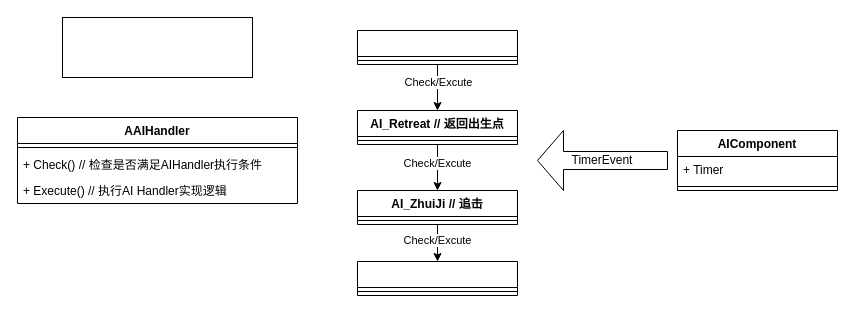
This 855x313 diagram has some shape labels left out. The centre of each missing label's shape, as x and y in pixels:
"AI_Attack // 攻击" belongs at pixel 437 278.
"AI_XunLuo // 巡逻" belongs at pixel 437 47.
"根据MonsterConfig 获取AI配置 AIConfig // AI配置" belongs at pixel 157 47.
